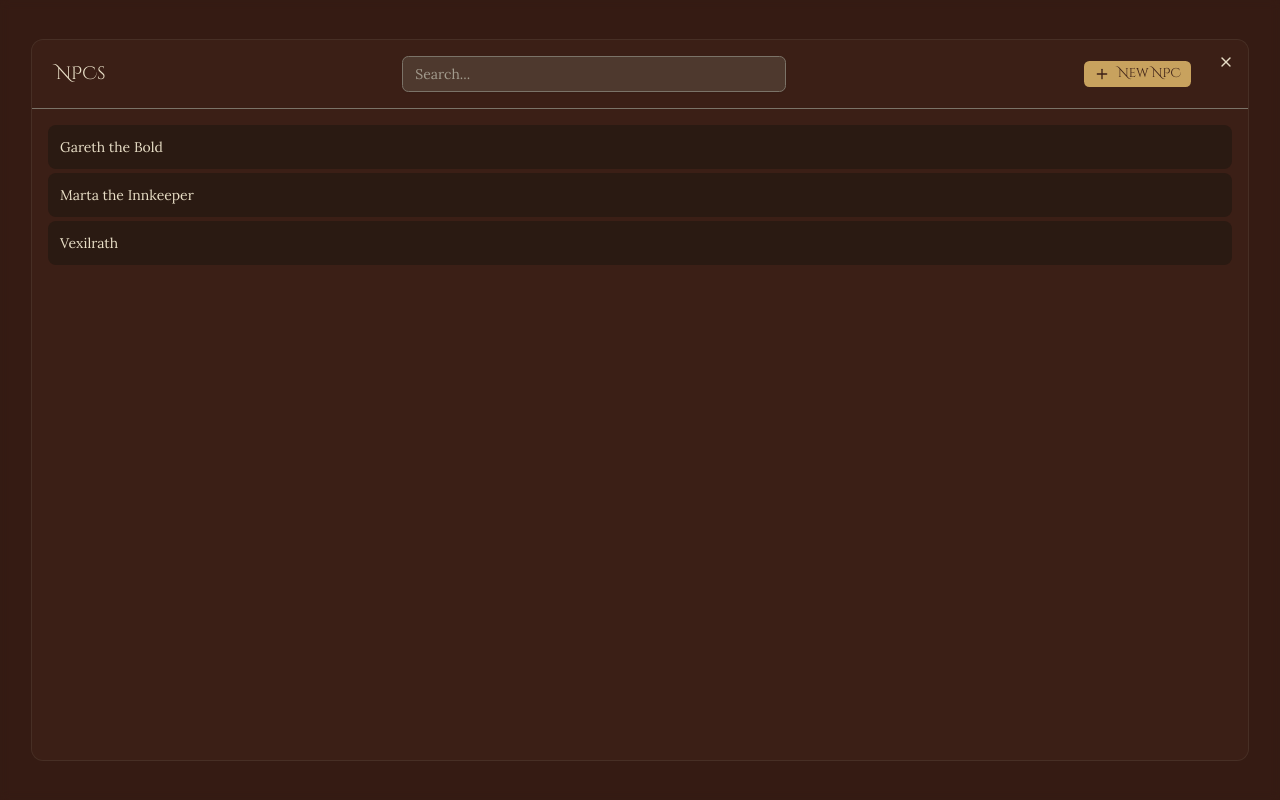
Test: MasterDetailModal — Search › shows all items when search is cleared
The width and height of the screenshot is (1280, 800).
Type "marta" into the search field with placeholder "Search..." at (594, 74), box [402,56,786,92]
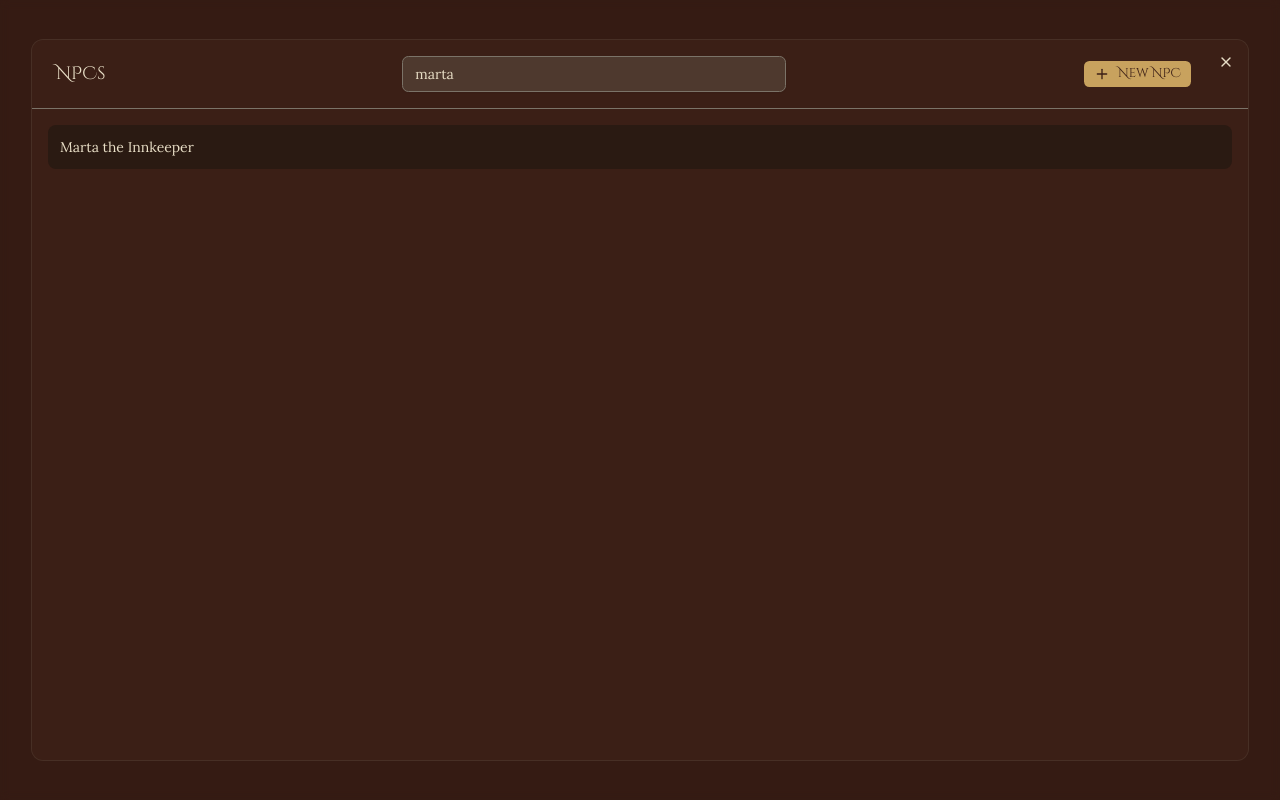
Clear the search field with placeholder "Search..." at (594, 74), box [402,56,786,92]
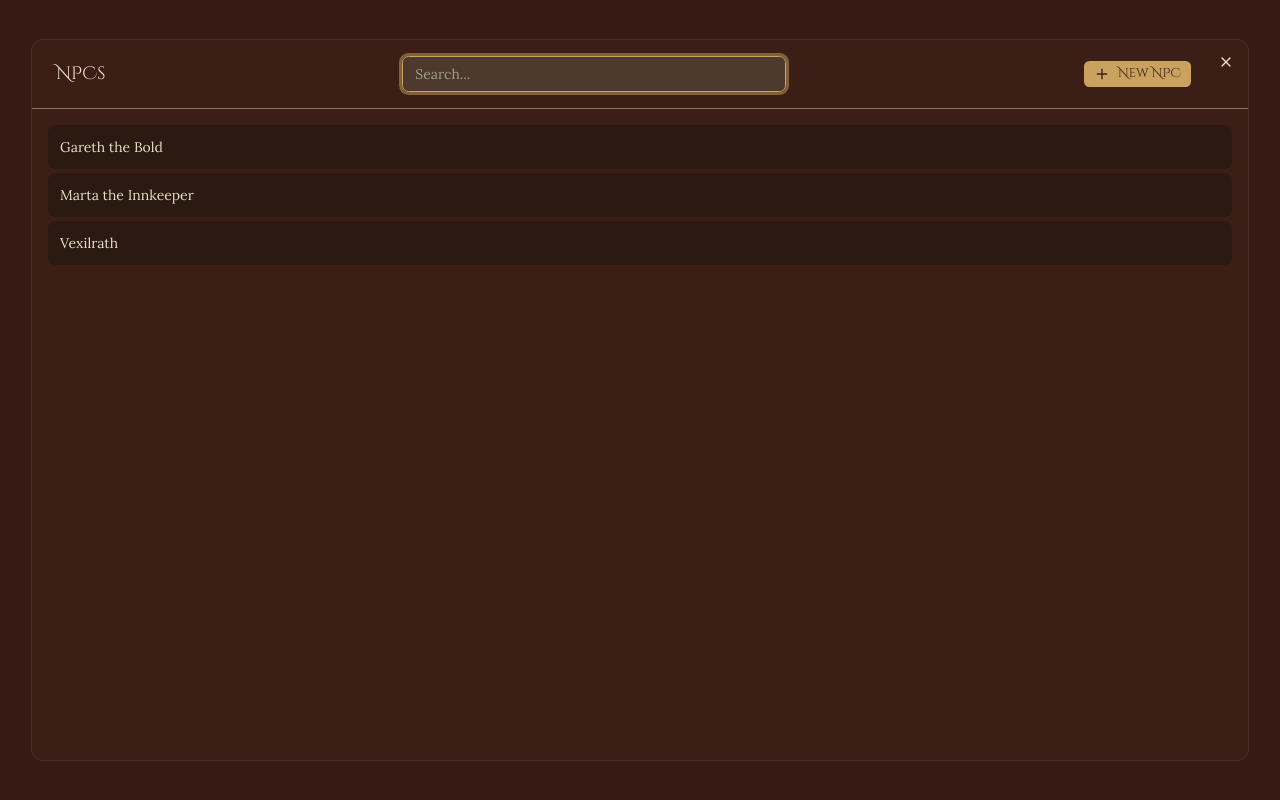
Expected: the text "Marta the Innkeeper" is shown, [60,186,194,204]
Result: the text "Gareth the Bold" is shown at [60,138,163,156]
Result: the text "Vexilrath" is shown at [60,234,118,252]
